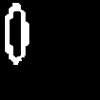chain: (5, 3, 28, 64)
